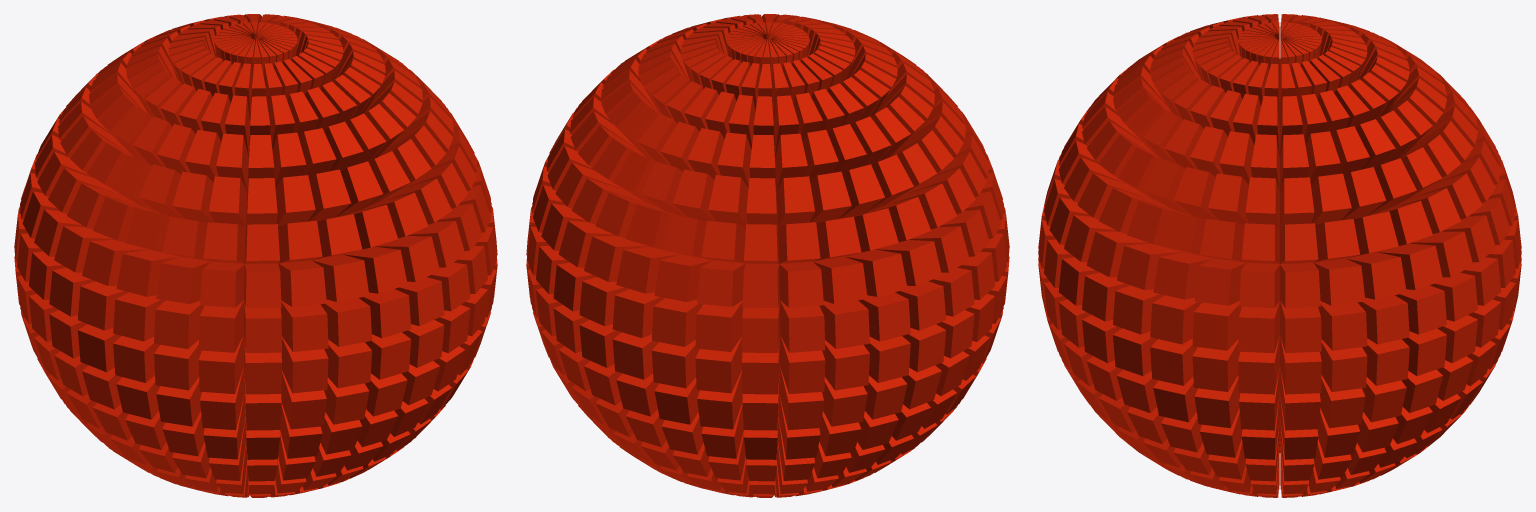
File: bomb.fbx
3 renders of one model, left to right at view 1: azimuth 30°, elevation 25°; view 2: azimuth 150°, elevation 25°; view 3: azimuth 270°, elevation 25°, orthographic.
Parts seen in each view (by area): view 1: Sphere; view 2: Sphere; view 3: Sphere.
Boxes of the visible parts, x1,y1,x2,y2 form: Sphere: [14, 14, 497, 497]; Sphere: [526, 14, 1009, 497]; Sphere: [1038, 14, 1521, 497].
Size of the model in its own units: 79.75 by 79.84 by 79.75.
